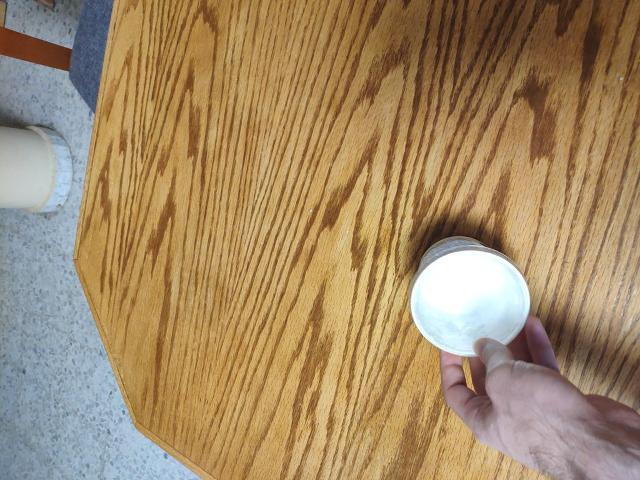cotage: (389, 229, 527, 359)
